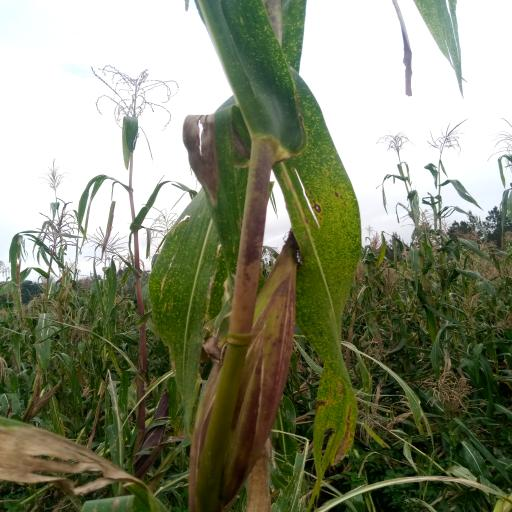Corn_Brown_Spots: (286, 83, 362, 463), (148, 185, 227, 438)
